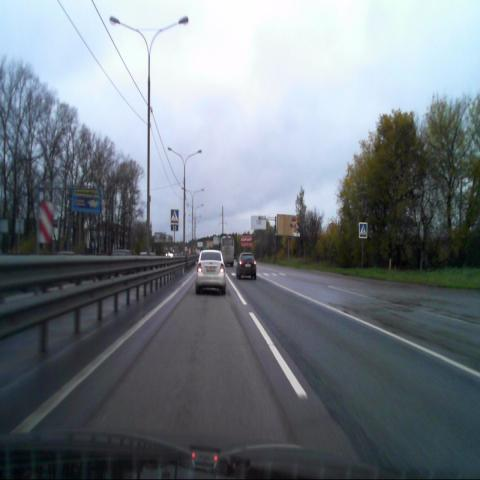5_19_1: (358, 222, 368, 238), (170, 208, 179, 224)
